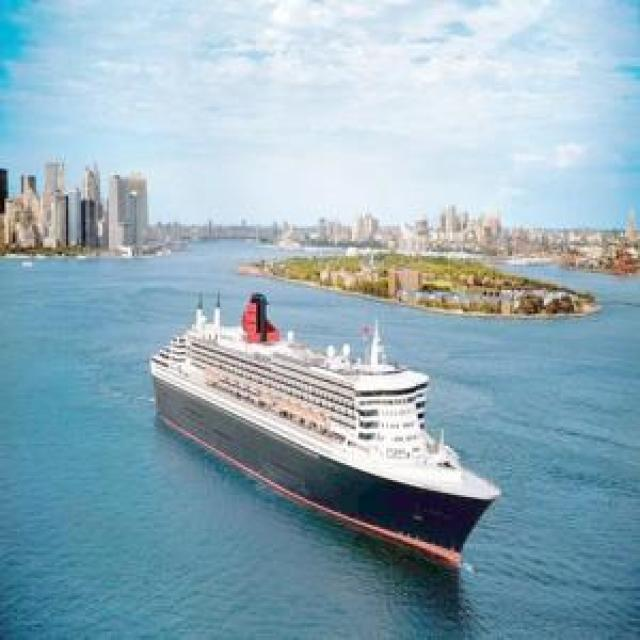passenger ship: (151, 288, 494, 566)
